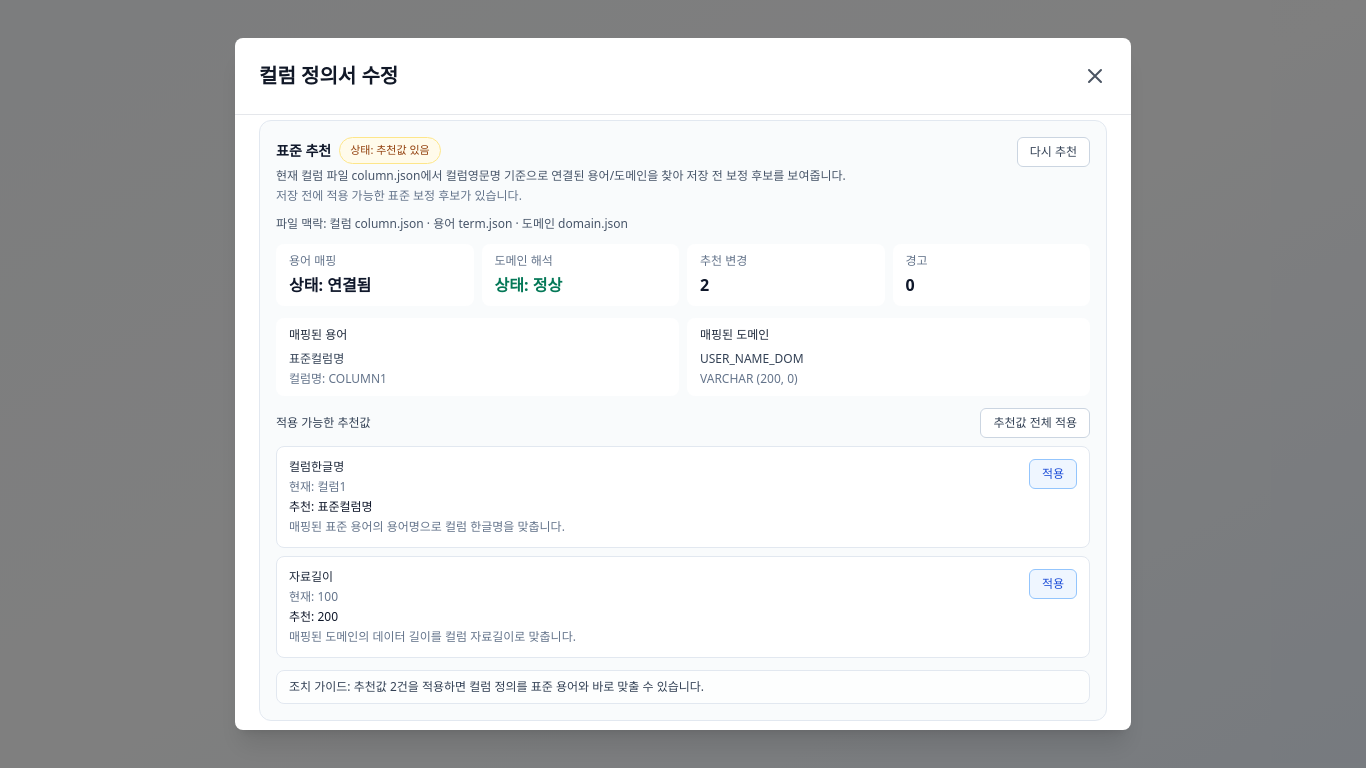
Test: ColumnDefEditor › User Interactions › should apply recommended values to the form
(page scrolled)
Click the button "추천값 전체 적용". click: point(1035, 423)
box: [980,408,1090,438]
(page scrolled)
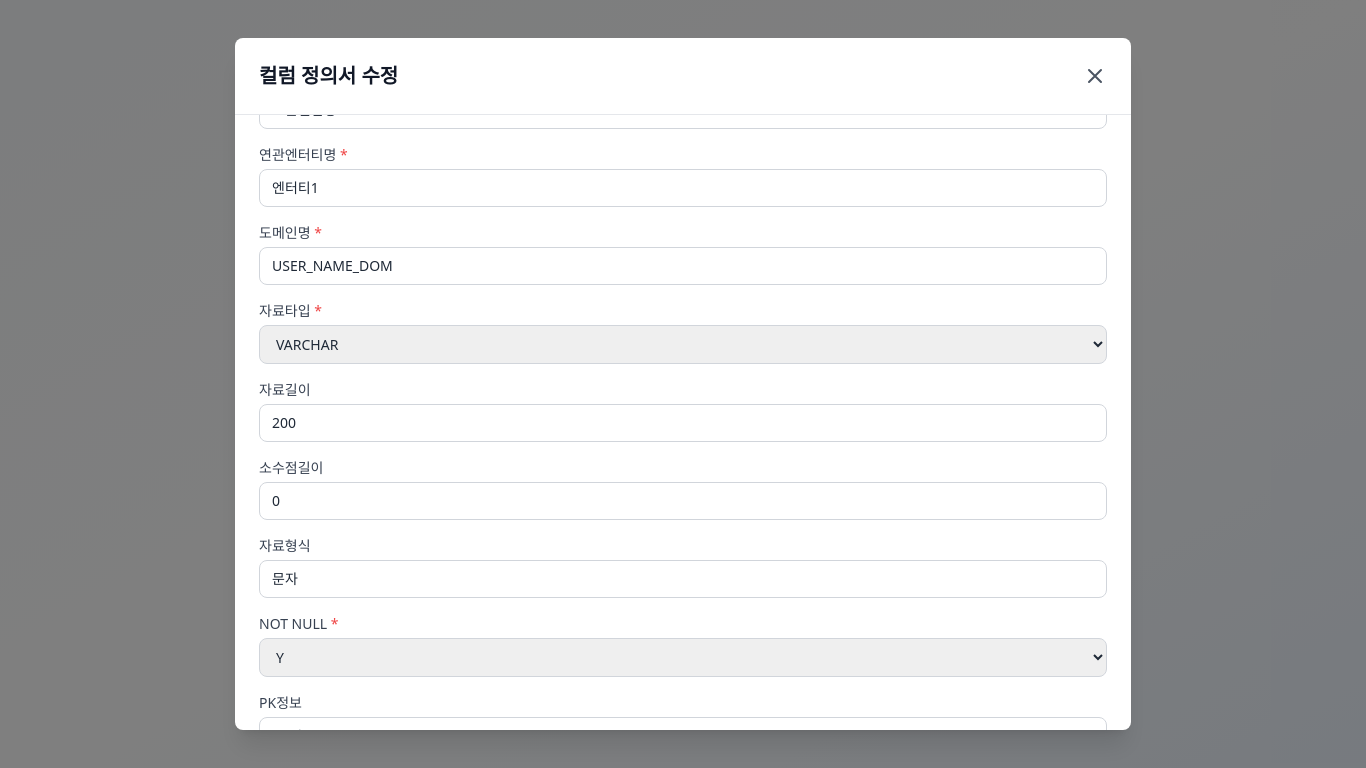
Now the field labelled "자료길이" holds "200", box [259,404,1107,442]
